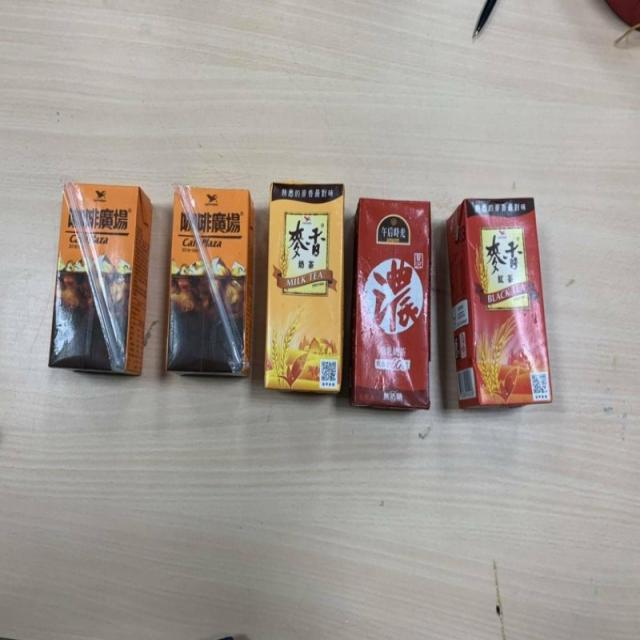cardboard: (446, 192, 556, 420), (49, 180, 152, 384), (263, 180, 348, 396), (166, 179, 256, 377), (351, 198, 434, 410)
